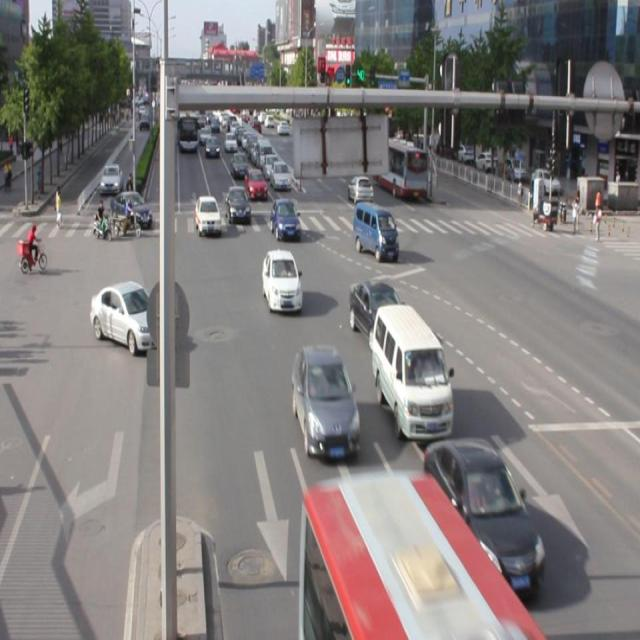car: (422, 437, 543, 592), (292, 342, 359, 458), (90, 282, 163, 352), (349, 280, 408, 351), (262, 248, 302, 312), (270, 198, 302, 242)
truck: (371, 304, 452, 438), (352, 201, 398, 260)
van: (302, 473, 542, 640)
